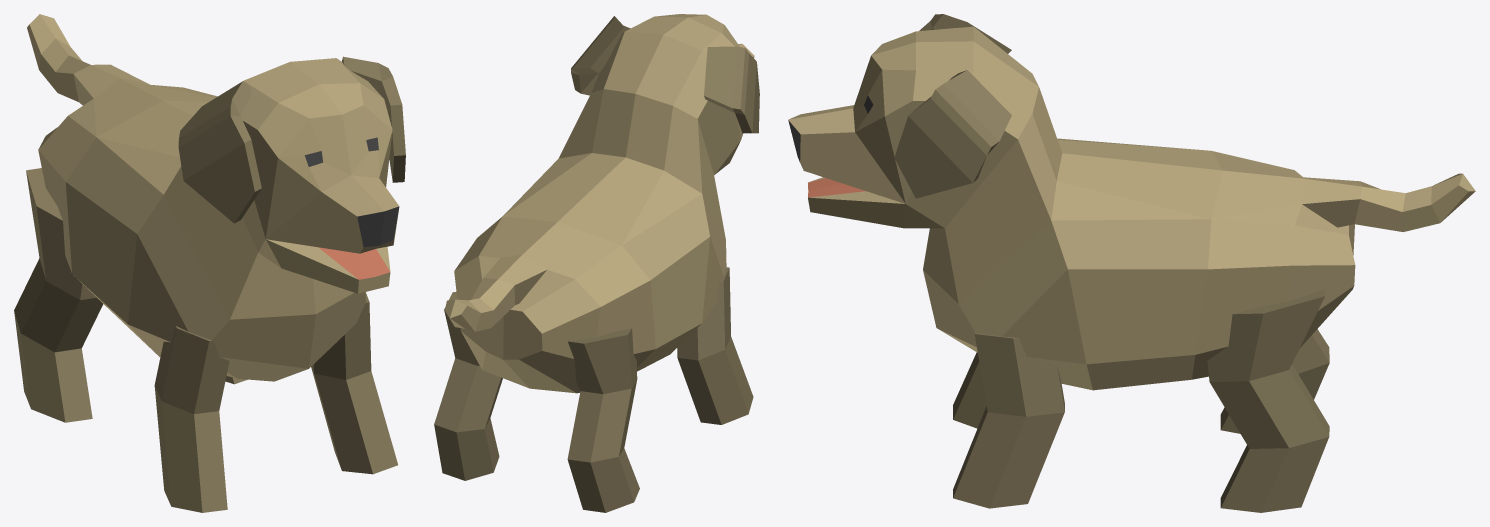
Rendered from golden-retriever.fbx.
3 renders of one model, left to right at view 1: azimuth 30°, elevation 25°; view 2: azimuth 150°, elevation 25°; view 3: azimuth 270°, elevation 25°, orthographic. The views are drawn at different scales.
Visible parts, largest first — view 1: body, front-leg, rear-leg, ear; view 2: body, rear-leg, front-leg, ear; view 3: body, rear-leg, front-leg, ear.
Part boxes in pixels (box(x1,y1,x2,y2)): body: box(27, 14, 399, 381); front-leg: box(154, 292, 397, 512); rear-leg: box(14, 168, 247, 422); ear: box(178, 56, 405, 223); body: box(445, 14, 754, 393); rear-leg: box(434, 292, 639, 512); front-leg: box(579, 267, 753, 424); ear: box(571, 16, 759, 133); body: box(788, 26, 1475, 390); rear-leg: box(1207, 289, 1329, 512); front-leg: box(953, 333, 1064, 508); ear: box(894, 14, 1011, 198).
Bounding box in the file's own units: 85.29 × 158 × 232.
